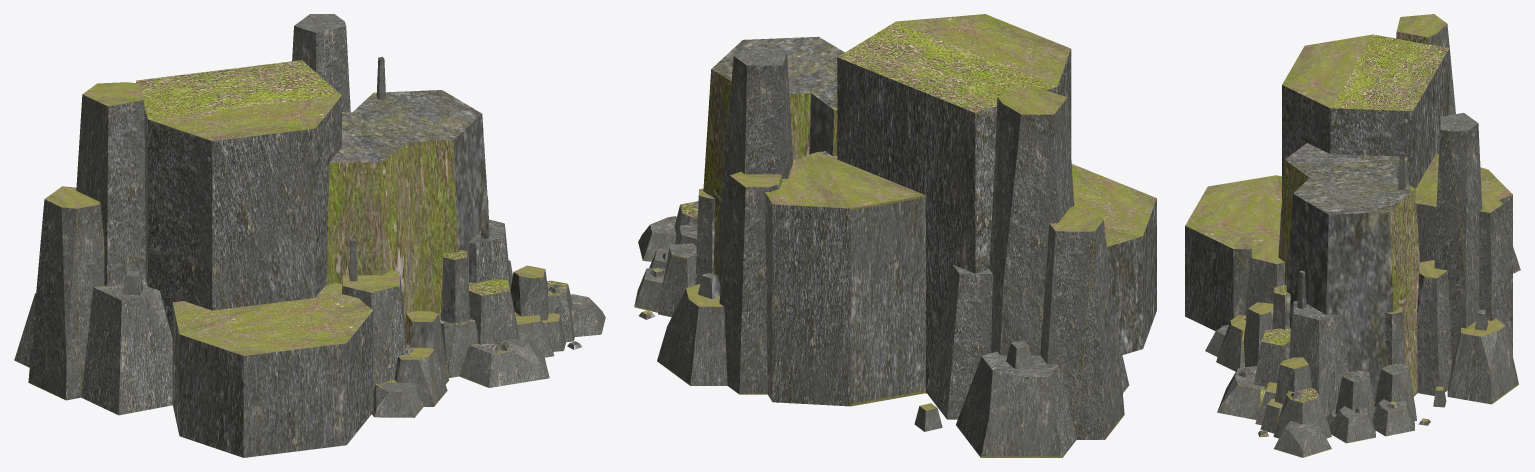
3 renders of one model, left to right at view 1: azimuth 30°, elevation 25°; view 2: azimuth 150°, elevation 25°; view 3: azimuth 270°, elevation 25°, orthographic. The views are drawn at different scales.
Parts seen in each view (by area): view 1: rock-b.001; view 2: rock-b.001; view 3: rock-b.001.
Boxes of the visible parts, bbox=[...] form: rock-b.001: bbox=[14, 14, 605, 457]; rock-b.001: bbox=[634, 14, 1156, 457]; rock-b.001: bbox=[1185, 14, 1520, 457].
Bounding box in the file's own units: 3.92 × 2.1 × 2.56.
Materials: 1 (1 with a texture image).
